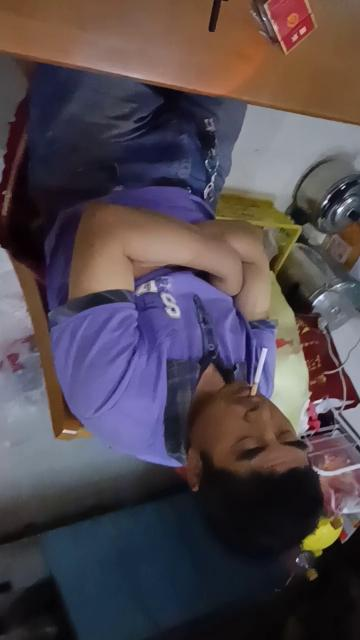Cigarette: (250, 348, 268, 397)
